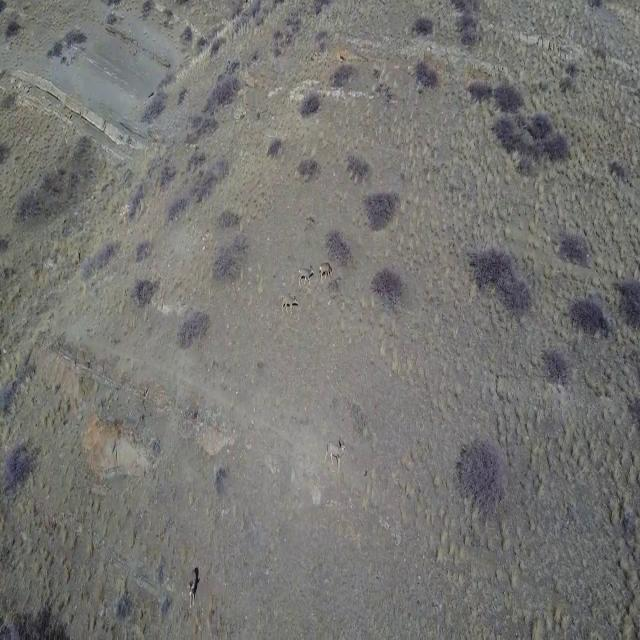Deer: (323, 433, 347, 467), (184, 564, 202, 608), (279, 291, 299, 320), (298, 263, 316, 289), (319, 256, 334, 283)
